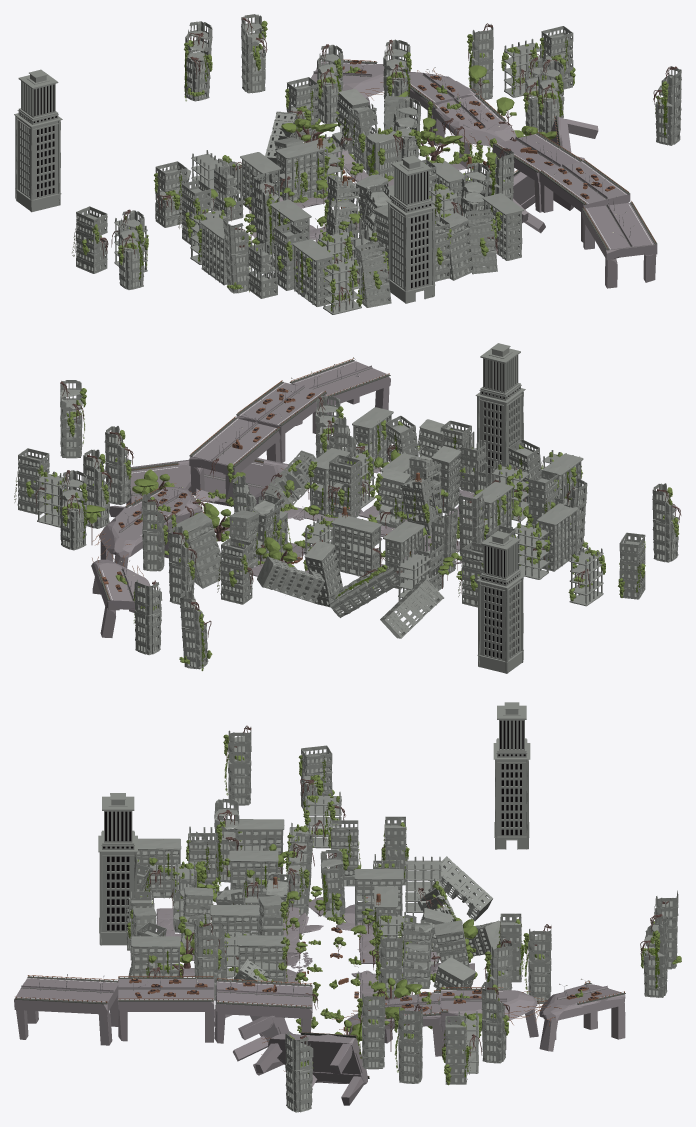
Rendered from CityScene0-transformed.glb.
3 views of the same model, one above another, from view 1: azimuth 30°, elevation 25°; view 2: azimuth 150°, elevation 25°; view 3: azimuth 270°, elevation 25° (orthographic). The views are drawn at different scales.
Parts seen in each view (by area): view 1: SM_barrel_01 (8), SM_lianas_01 (12); view 2: SM_barrel_01 (8), SM_lianas_01 (12); view 3: SM_barrel_01 (8), SM_lianas_01 (12).
Part boxes in pixels (left/top/right/bottom): SM_barrel_01 (8): left=14, top=14, right=681, bottom=314; SM_lianas_01 (12): left=73, top=39, right=667, bottom=311; SM_barrel_01 (8): left=14, top=343, right=681, bottom=673; SM_lianas_01 (12): left=14, top=410, right=640, bottom=670; SM_barrel_01 (8): left=14, top=702, right=681, bottom=1112; SM_lianas_01 (12): left=145, top=754, right=659, bottom=1077.
Size of the model in its own units: 272 by 71.86 by 251.
Materials: 4 (4 with a texture image).
